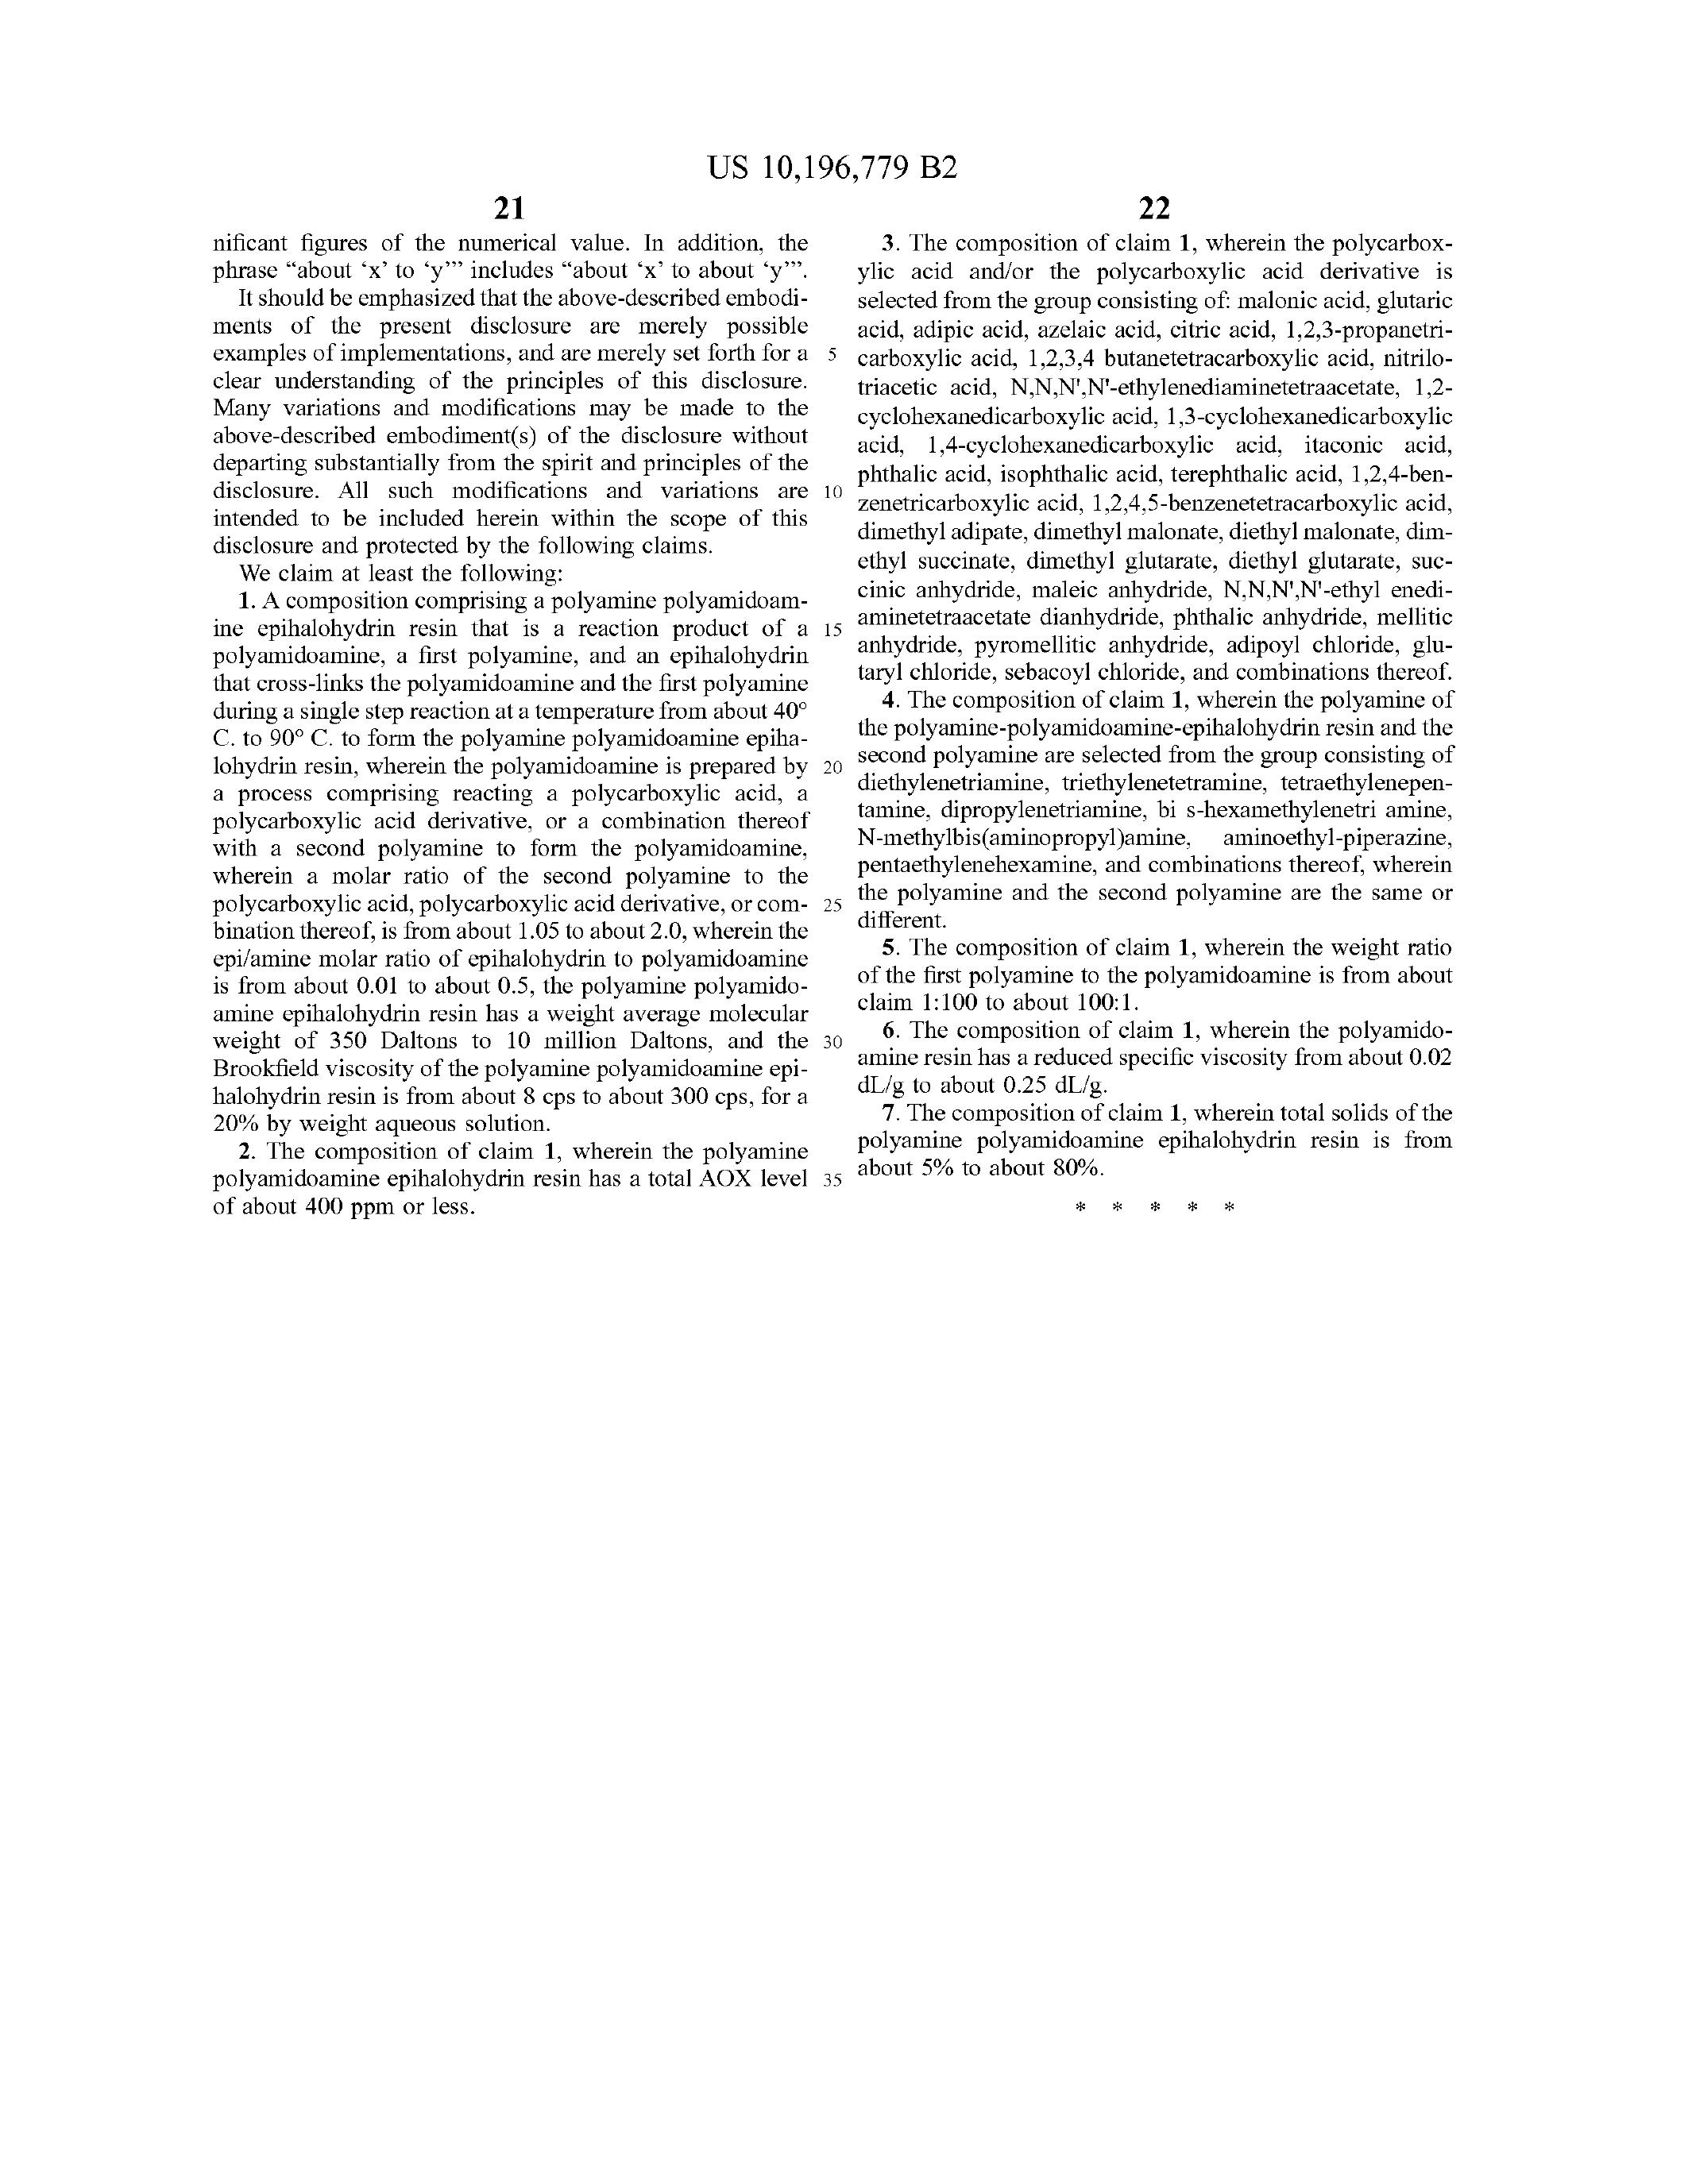substitutes: (867, 223, 1449, 679)
